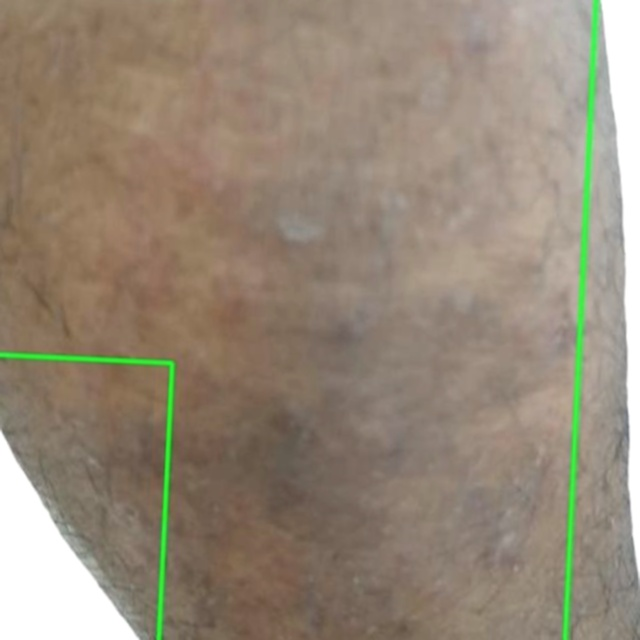Tinea Corporis: (0, 356, 173, 639)
